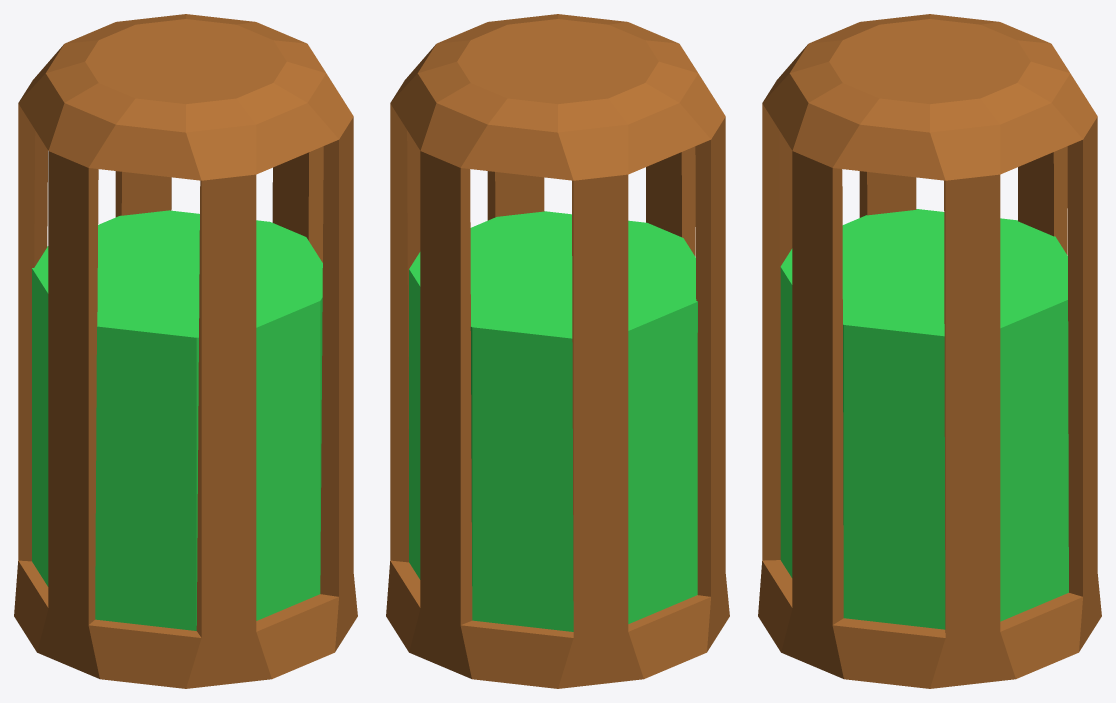
The model's file is decoVat1.glb.
3 views of the same model, side by side, from view 1: azimuth 30°, elevation 25°; view 2: azimuth 150°, elevation 25°; view 3: azimuth 270°, elevation 25° (orthographic).
Parts seen in each view (by area): view 1: Cylinder, Cylinder.001; view 2: Cylinder, Cylinder.001; view 3: Cylinder, Cylinder.001.
Boxes of the visible parts, left/top/right/bottom form: Cylinder: left=14, top=14, right=357, bottom=688; Cylinder.001: left=32, top=210, right=322, bottom=630; Cylinder: left=386, top=14, right=729, bottom=688; Cylinder.001: left=409, top=211, right=697, bottom=631; Cylinder: left=758, top=14, right=1101, bottom=688; Cylinder.001: left=780, top=209, right=1068, bottom=629.
Size of the model in its own units: 1.67 by 2.97 by 1.67.
